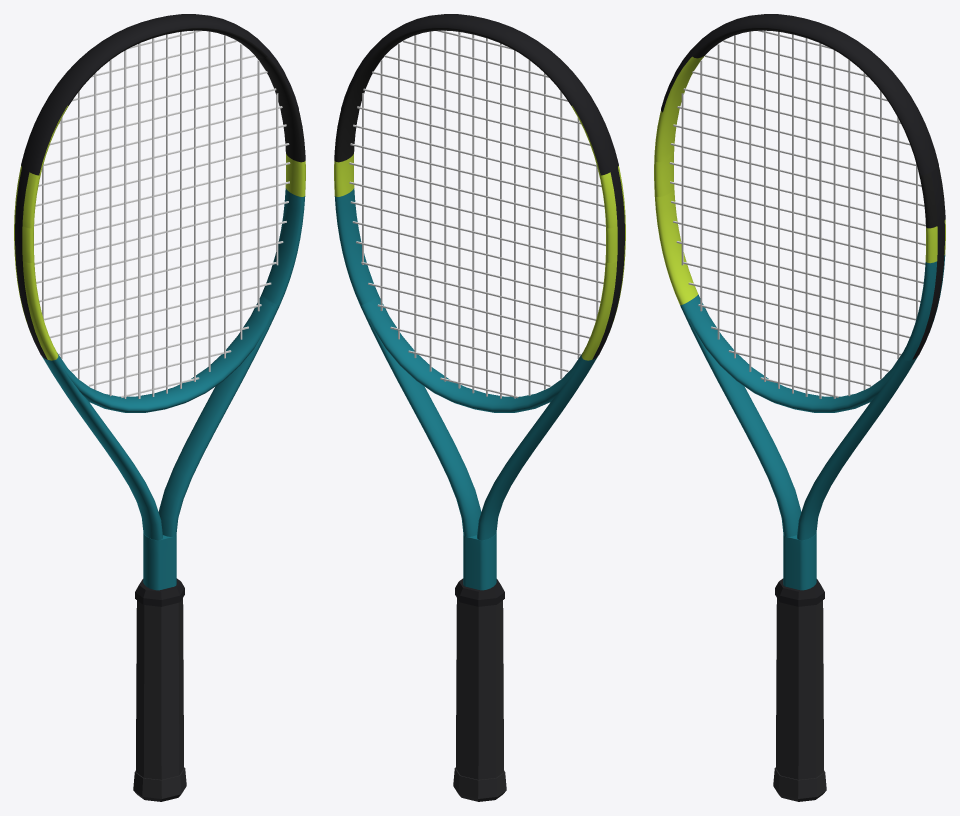
Rendered from dunlop-sx-300-tour-2025.glb.
The picture shows the model from 3 angles, left to right: view 1: azimuth 30°, elevation 25°; view 2: azimuth 150°, elevation 25°; view 3: azimuth 330°, elevation 25°; orthographic projection.
Visible parts, largest first — view 1: frame, strings_mains, strings_crosses, grip, bumper, grommets, butt_cap, collar; view 2: frame, strings_mains, strings_crosses, grip, bumper, grommets, butt_cap, collar; view 3: frame, strings_mains, strings_crosses, grip, bumper, grommets, butt_cap, collar.
Part boxes in pixels (x1,y1,x2,y2): frame: [14, 28, 305, 590]; strings_mains: [42, 30, 278, 398]; strings_crosses: [34, 30, 290, 397]; grip: [136, 598, 183, 779]; bumper: [21, 14, 298, 175]; grommets: [15, 167, 47, 359]; butt_cap: [133, 767, 186, 801]; collar: [135, 578, 184, 606]; frame: [334, 28, 625, 590]; strings_mains: [362, 30, 598, 398]; strings_crosses: [349, 30, 605, 398]; grip: [456, 598, 503, 779]; bumper: [341, 14, 618, 175]; grommets: [592, 167, 624, 359]; butt_cap: [453, 767, 506, 801]; collar: [455, 578, 504, 606]; frame: [654, 28, 945, 590]; strings_mains: [681, 30, 917, 398]; strings_crosses: [669, 30, 925, 397]; grip: [776, 598, 823, 779]; bumper: [661, 14, 938, 175]; grommets: [912, 167, 944, 359]; butt_cap: [773, 767, 826, 801]; collar: [775, 578, 824, 606].
Size of the model in its own units: 0.2644 by 0.6861 by 0.0377.
